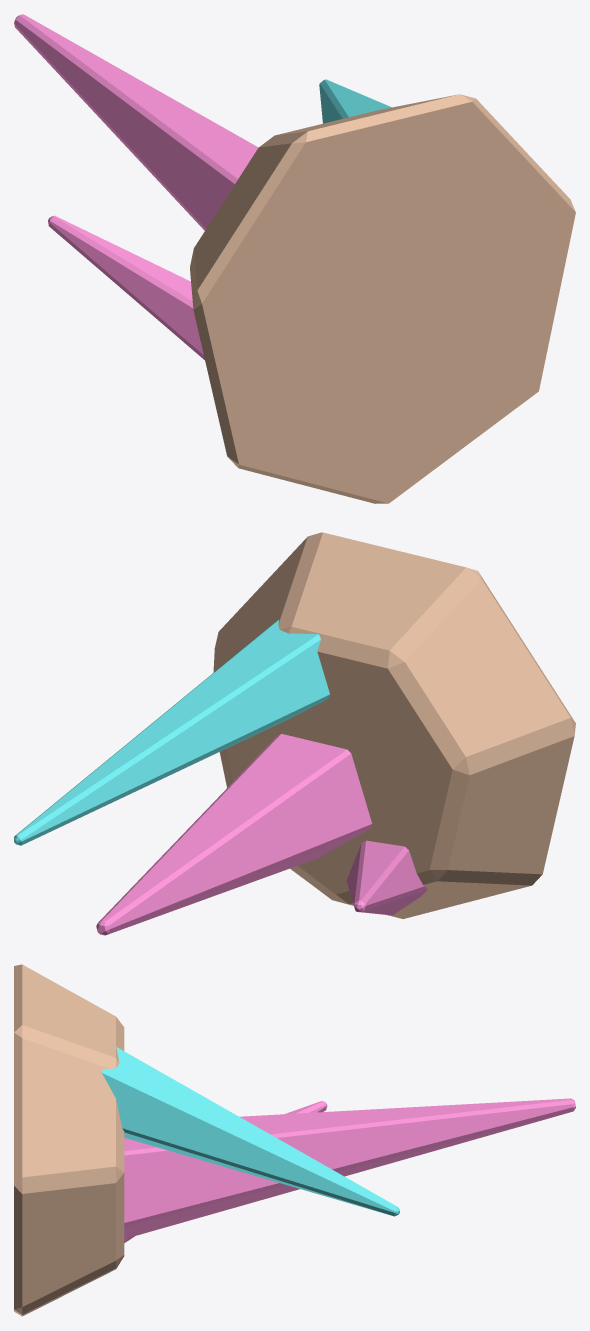
The model's file is Env_CrystalCluster.fbx.
3 views of the same model, one above another, from view 1: azimuth 30°, elevation 25°; view 2: azimuth 150°, elevation 25°; view 3: azimuth 270°, elevation 25° (orthographic). The views are drawn at different scales.
Parts seen in each view (by area): view 1: RockBase, CrystalMain, CrystalSideB, CrystalSideA; view 2: RockBase, CrystalMain, CrystalSideA, CrystalSideB; view 3: RockBase, CrystalMain, CrystalSideA.
Boxes of the visible parts, x1,y1,x2,y2 form: RockBase: (190,94,575,503); CrystalMain: (14,14,258,230); CrystalSideB: (48,215,204,359); CrystalSideA: (319,79,391,123); RockBase: (213,532,575,918); CrystalMain: (96,734,371,935); CrystalSideA: (14,620,329,845); CrystalSideB: (346,840,427,915); RockBase: (14,964,124,1316); CrystalMain: (124,1098,575,1238); CrystalSideA: (102,1047,399,1216).
Size of the model in its own units: 1.18 by 1.15 by 1.83.
